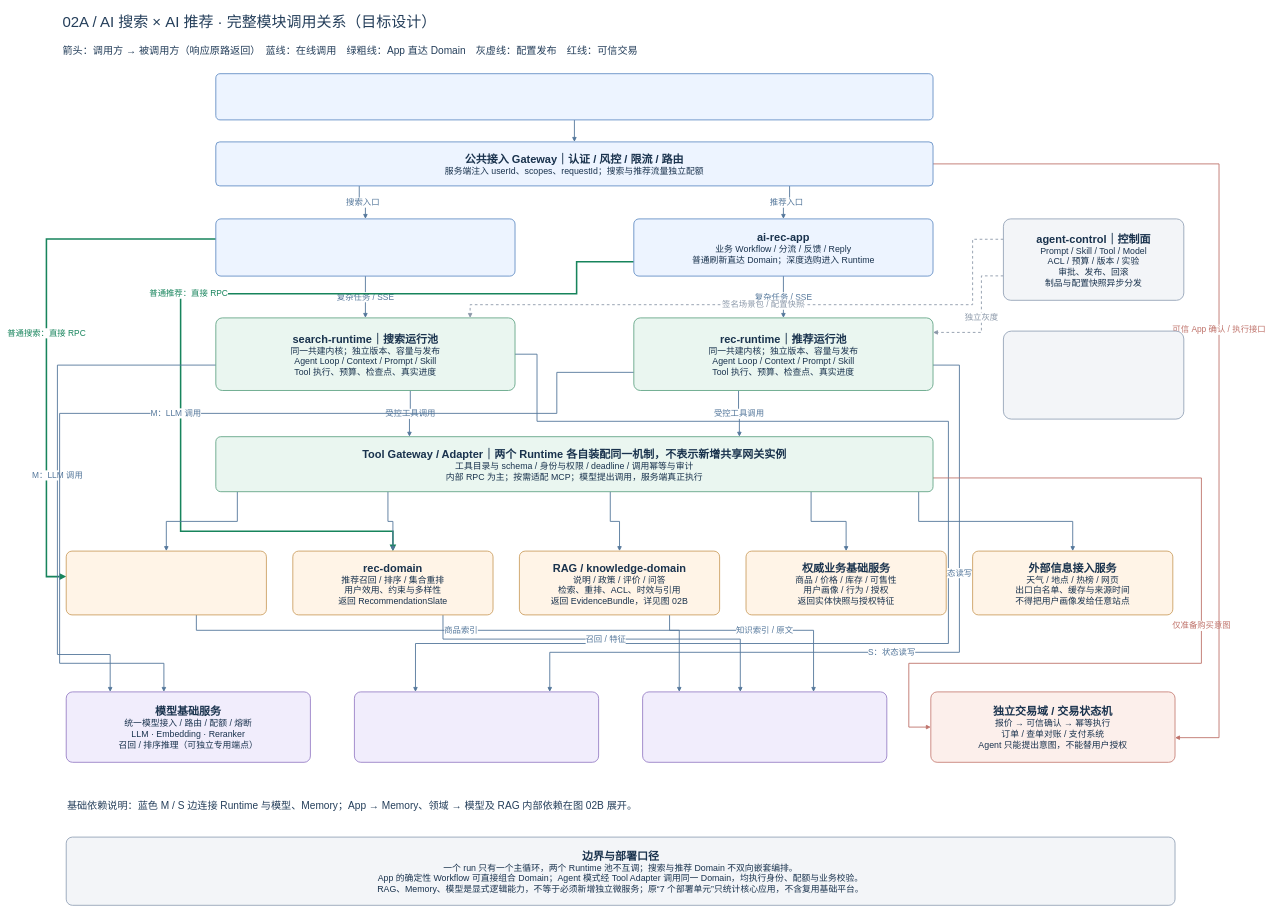
Some shapes in this 1273 by 913 pixel diagram are drawn without their labels. Each missing label, with the centre of its shape:
"ai-search-app 业务 Workflow / 分流 / 实验 / Reply 普通检索直达 Domain；复杂任务进入 Runtime" belongs at point (365, 247).
"Memory / 状态基础服务 会话与约束 / 候选引用 / 检查点 经授权的长期偏好、TTL 与删除 App 读会话；Runtime 管理任务状态" belongs at point (476, 727).
"search-domain Query 编译 / 商品多路召回 过滤 / 相关性排序 / Hints 返回 CandidateSet" belongs at point (166, 582).
"共享数据与检索基础设施 倒排 / 向量检索 · Feature Store 证据原文 / 实体与候选存储 领域服务使用 SDK / RPC 受控访问" belongs at point (764, 727).
"横向治理与运行支撑 IAM / 密钥 / 服务发现 Trace / 指标 / 审计 / 告警 各调用点埋点与配额隔离 异步反馈 / 评测 / 发布门禁" belongs at point (1093, 374).
"消费者客户端｜搜索框 / 推荐流 / 对话 / 可信确认页 展示流式内容、证据与商品卡；提交明确反馈；不直连内部服务" belongs at point (574, 96).
